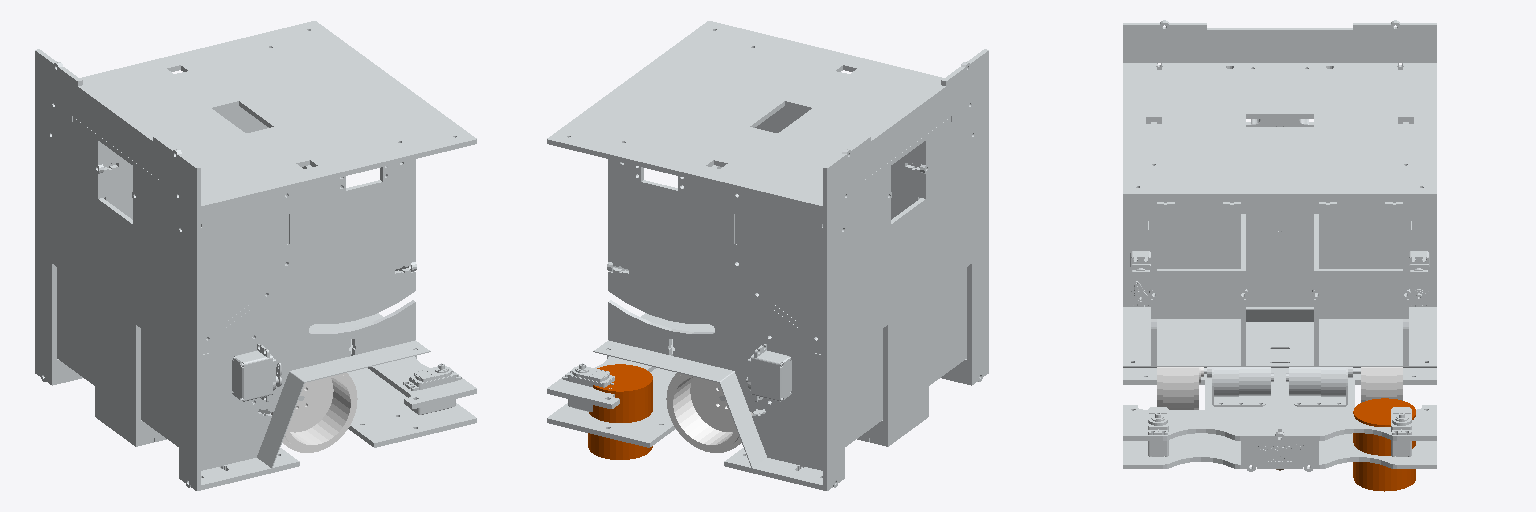
URDF robot description (sim_euro2021):
<?xml version="1.0" encoding="utf-8"?>
<!-- This URDF was automatically created by SolidWorks to URDF Exporter! Originally created by [author] ([email redacted]) 
     Commit Version: 1.6.0-4-g7f85cfe  Build Version: 1.6.7995.38578
     For more information, please see http://wiki.ros.org/sw_urdf_exporter -->
<robot
  name="sim_euro2021">
  <link
    name="base_link">
    <inertial>
      <origin
        xyz="-0.01 0 0"
        rpy="0 0 0" />
      <mass
        value="7.1349" />
      <inertia
        ixx="0.03997"
        ixy="0"
        ixz="0"
        iyy="0.041525"
        iyz="0.0"
        izz="0.037587" />
    </inertial>
    <visual>
      <origin
        xyz="0 0 0"
        rpy="0 0 0" />
      <geometry>
        <mesh
          filename="package://sim_euro2021/meshes/base_link.STL" />
      </geometry>
      <material
        name="">
        <color
          rgba="0.89804 0.91765 0.92941 1" />
      </material>
    </visual>
    <collision>
      <origin
        xyz="0 0 0"
        rpy="0 0 0" />
      <geometry>
        <mesh
          filename="package://sim_euro2021/meshes/base_link.STL" />
      </geometry>
    </collision>
  </link>
  
  
  
  <link
    name="R_W_Link">
    <inertial>
      <origin
        xyz="-4.9191E-06 -2.84E-06 0.0098174"
        rpy="0 0 0" />
      <mass
        value="0.24734" />
      <inertia
        ixx="0.00017671"
        ixy="0"
        ixz="0"
        iyy="0.0001767"
        iyz="0"
        izz="0.00028654" />
    </inertial>
    <visual>
      <origin
        xyz="0 0 0"
        rpy="0 0 0" />
      <geometry>
        <mesh
          filename="package://sim_euro2021/meshes/R_W_Link.STL" />
      </geometry>
      <material
        name="">
        <color
          rgba="1 1 1 1" />
      </material>
    </visual>
    <collision>
      <origin
        xyz="0 0 0"
        rpy="0 0 0" />
      <geometry>
        <mesh
          filename="package://sim_euro2021/meshes/R_W_Link.STL" />
      </geometry>
    </collision>
  </link>
  <joint
    name="R_W"
    type="continuous">
    <origin
      xyz="0 -0.08183 0.0313"
      rpy="1.5708 0 0" />
    <parent
      link="base_link" />
    <child
      link="R_W_Link" />
    <axis
      xyz="0 0 -1" />
  </joint>
  <link
    name="L_W_Link">
    <inertial>
      <origin
        xyz="0 0 0.019725"
        rpy="0 0 0" />
      <mass
        value="0.23927" />
      <inertia
        ixx="0.00017634"
        ixy="0"
        ixz="0"
        iyy="0.00017636"
        iyz="0"
        izz="0.00028591" />
    </inertial>
    <visual>
      <origin
        xyz="0 0 0"
        rpy="0 0 0" />
      <geometry>
        <mesh
          filename="package://sim_euro2021/meshes/L_W_Link.STL" />
      </geometry>
      <material
        name="">
        <color
          rgba="1 1 1 1" />
      </material>
    </visual>
    <collision>
      <origin
        xyz="0 0 0"
        rpy="0 0 0" />
      <geometry>
        <mesh
          filename="package://sim_euro2021/meshes/L_W_Link.STL" />
      </geometry>
    </collision>
  </link>
  <joint
    name="L_W"
    type="continuous">
    <origin
      xyz="0 0.11183 0.0313"
      rpy="1.5708 0 0" />
    <parent
      link="base_link" />
    <child
      link="L_W_Link" />
    <axis
      xyz="0 0 -1" />
  </joint>
  <link
    name="F_Link">
    <inertial>
      <origin
        xyz="0 0.00060269 -0"
        rpy="0 0 0" />
      <mass
        value="0.010853" />
      <inertia
        ixx="1.9663E-07"
        ixy="0"
        ixz="0"
        iyy="1.9663E-07"
        iyz="0"
        izz="1.9663E-07" />
    </inertial>
    <visual>
      <origin
        xyz="0 0 0"
        rpy="0 0 0" />
      <geometry>
        <mesh
          filename="package://sim_euro2021/meshes/F_Link.STL" />
      </geometry>
      <material
        name="">
        <color
          rgba="0.68627 0.60784 0.52941 1" />
      </material>
    </visual>
    <collision>
      <origin
        xyz="0 0 0"
        rpy="0 0 0" />
      <geometry>
        <mesh
          filename="package://sim_euro2021/meshes/F_Link.STL" />
      </geometry>
      <surface>
        <friction>
          <ode>
            <mu>0</mu>
            <mu2>0</mu2>
             <slip1>1.0</slip1>
            <slip2>1.0</slip2>
          </ode>
        </friction>
      </surface>
    </collision>
  </link>
  <joint
    name="FS"
    type="fixed">
    <origin
      xyz="0.13185 9.142E-05 -0.0041109"
      rpy="-1.4563 -0.26834 -0.96598" />
    <parent
      link="base_link" />
    <child
      link="F_Link" />
    <axis
      xyz="0 0 0" />
  </joint>
  <link
    name="B_Link">
    <inertial>
      <origin
        xyz="-8.0108E-07 0.00060259 -7.7782E-06"
        rpy="0 0 0" />
      <mass
        value="0.010853" />
      <inertia
        ixx="1.9663E-07"
        ixy="0"
        ixz="0"
        iyy="1.9663E-07"
        iyz="0"
        izz="1.9663E-07" />
    </inertial>
    <visual>
      <origin
        xyz="0 0 0"
        rpy="0 0 0" />
      <geometry>
        <mesh
          filename="package://sim_euro2021/meshes/B_Link.STL" />
      </geometry>
      <material
        name="">
        <color
          rgba="0.68627 0.60784 0.52941 1" />
      </material>
    </visual>
    <collision>
      <origin
        xyz="0 0 0"
        rpy="0 0 0" />
      <geometry>
        <mesh
          filename="package://sim_euro2021/meshes/B_Link.STL" />
      </geometry>
      <surface>
        <friction>
          <ode>
            <mu>0</mu>
            <mu2>0</mu2>
            <slip1>1.0</slip1>
            <slip2>1.0</slip2>
          </ode>
        </friction>
         </surface>
    </collision>
  </link>
  
  <!-- ****************************** LIDAR *****************************    -->
<link name="laser">    
  <inertial>
    <pose>0.215 0 0.13 0 0 0</pose>
      <origin
        xyz="0 0 0"
        rpy="0 0 0" />
      <mass
        value="0.114" />
      <inertia
        ixx="0.001"
        ixy="0"
        ixz="0"
        iyy="0.001"
        iyz="0.0"
        izz="0.001" />
    </inertial>

 
  <collision name="lidar_collision">
    <pose>0.215 0 0.13 0 0 0</pose>
    <geometry>
      <cylinder radius="0.03"  length="0.07"/>
    </geometry>
  </collision>
 
  <visual name="lidar_visual">
    <pose>0.215 0 0.13 0 0 0</pose>
    <geometry>
      <cylinder radius="0.03"  length="0.07"/>
    </geometry>
    <material name="">
      <ambient>0.0 0.0 0.0 1.0</ambient>
      <diffuse>0.0 0.0 0.0 1.0</diffuse>
      <specular>0.0 0.0 0.0 1.0</specular>
      <emissive>0.0 0.0 0.0 1.0</emissive>
    </material>
  </visual>
 
  <sensor name="lidar" type="ray">
    <pose>0.215 0 0.215 0 0 0</pose>
    <always_on>true</always_on>
    <visualize>true</visualize>
    <update_rate>5</update_rate>
    <ray>
      <scan>
        <horizontal>
          <samples>360</samples>
          <resolution>1.00000</resolution>
          <min_angle>0.000000</min_angle>
          <max_angle>6.280000</max_angle>
        </horizontal>
      </scan>
      <range>
        <min>0.120000</min>
        <max>3.5</max>
        <resolution>0.015000</resolution>
      </range>
      <noise>
        <type>gaussian</type>
        <mean>0.0</mean>
        <stddev>0.01</stddev>
      </noise>
    </ray>
    <plugin name="scan" filename="libgazebo_ros_ray_sensor.so">
      <ros>
        <remapping>~/out:=scan</remapping>
      </ros>
      <output_type>sensor_msgs/LaserScan</output_type>
      <frame_name>lidar_link</frame_name>
    </plugin>
  </sensor>
</link>



 <joint name="base_to_laser" type="fixed">
    <parent link="base_link"/>
    <child link="laser"/>
    <origin rpy="0 0 0" xyz="0.10 0.10 0"/>
</joint>
  
  
  <joint
    name="BS"
    type="fixed">
    <origin
      xyz="-0.1319 0 -0.0040942"
      rpy="-1.5404 0.16681 0.10407" />
    <parent
      link="base_link" />
    <child
      link="B_Link" />
    <axis
      xyz="0 0 0" />
  </joint>
  <gazebo>
    <plugin filename="libgazebo_ros_diff_drive.so" name="differential_drive_controller">
      <alwaysOn>true</alwaysOn>
      <updateRate>100</updateRate>
      <leftJoint>L_W</leftJoint>
      <rightJoint>R_W</rightJoint>
      <wheelSeparation>0.25</wheelSeparation>
      <wheelDiameter>0.1</wheelDiameter>
      <torque>10</torque>
      <commandTopic>cmd_vel</commandTopic>
      <odometryTopic>odom</odometryTopic>
      <odometryFrame>odom</odometryFrame>
      <robotBaseFrame>base_link</robotBaseFrame>
    </plugin>
  </gazebo>
</robot>

--- Facts derived from the render (not from the file) ---
Views: 3 orthographic renders of the robot side by side, from view 1: azimuth 30°, elevation 25°; view 2: azimuth 150°, elevation 25°; view 3: azimuth 270°, elevation 25°.
Robot: sim_euro2021 — 6 links, 5 joints (2 continuous, 3 fixed); root link base_link; default pose: every joint at zero.
Visible links, largest first — view 1: base_link, R_W_Link; view 2: base_link, L_W_Link, laser; view 3: base_link, laser, R_W_Link, L_W_Link.
Link boxes in pixels (<box>): base_link: <box>35,21,476,490</box>; R_W_Link: <box>271,373,357,452</box>; base_link: <box>547,21,988,490</box>; L_W_Link: <box>666,373,752,452</box>; laser: <box>588,364,652,459</box>; base_link: <box>1123,20,1436,471</box>; laser: <box>1353,398,1415,491</box>; R_W_Link: <box>1157,367,1203,409</box>; L_W_Link: <box>1361,367,1402,402</box>.
Size in the robot's own frame: 0.3 by 0.3 by 0.3647 metres.
Meshes: 5 distinct files referenced, 5 mesh visuals loaded (5 binary STL).
